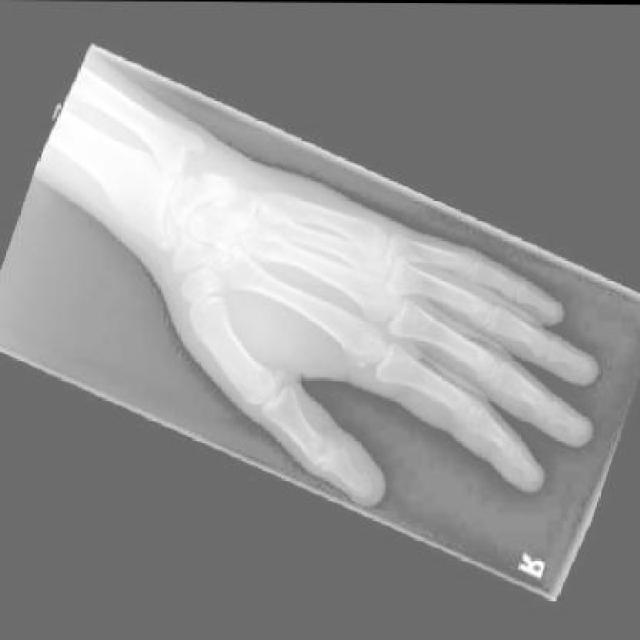Fracture: (194, 168, 243, 213)
